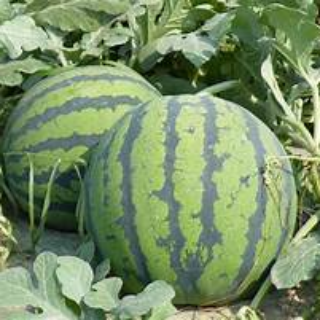dua_hau: (83, 93, 297, 311)
